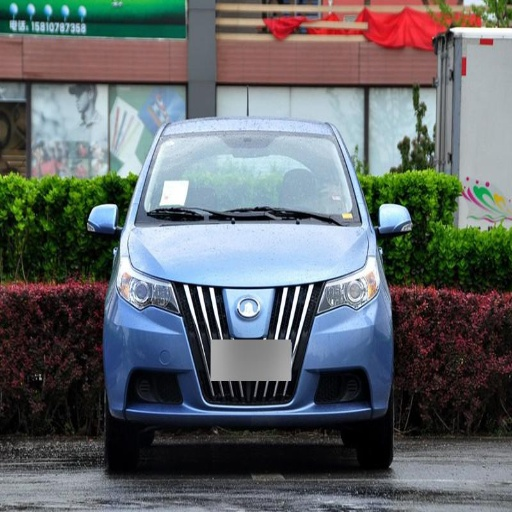front_bumper: (107, 280, 394, 428)
front_right_light: (116, 265, 178, 313)
hood: (127, 226, 368, 286)
left_mirror: (376, 204, 412, 238)
